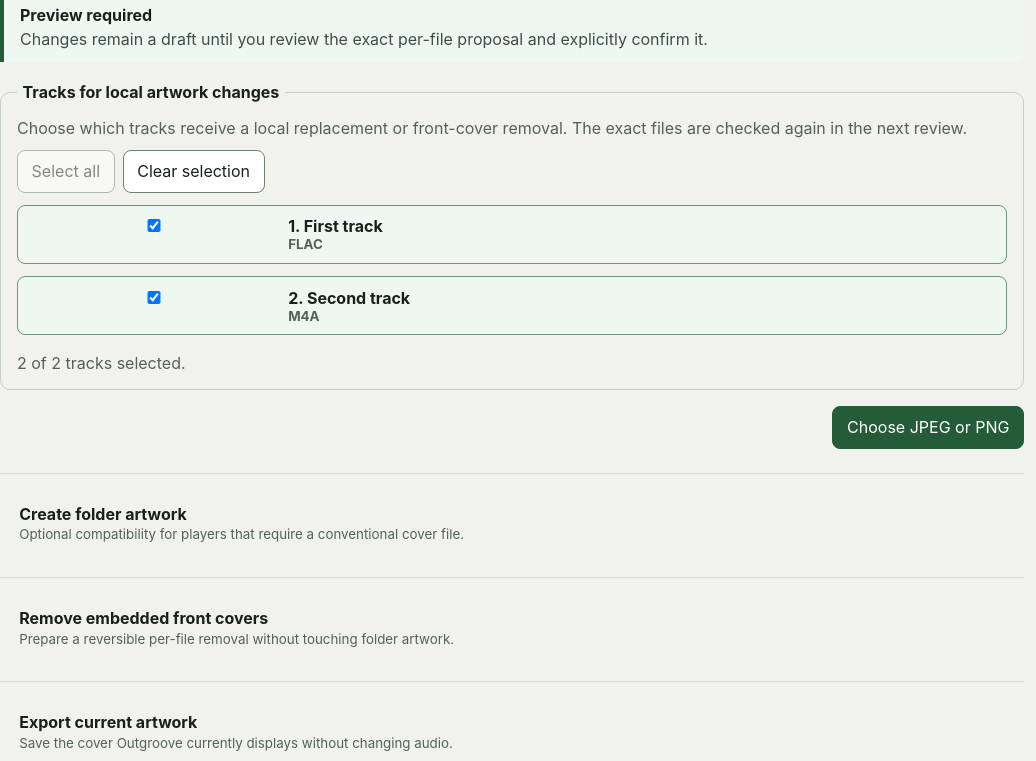
Test case: AlbumArtworkEditor › keeps exported artwork verification codes behind keyboard-accessible details
(page scrolled)
Click the text "Export current artwork". click: (108, 722)
box: [19, 712, 197, 732]
(page scrolled)
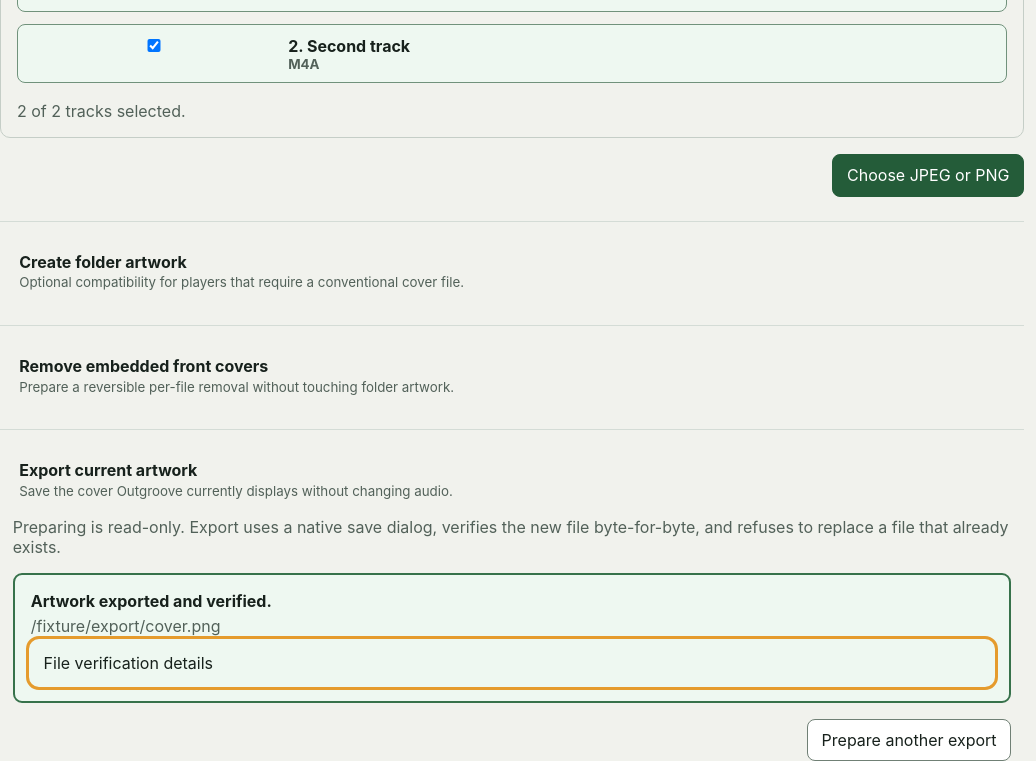
Check: the text "1234567890abcdef" is not shown
Check: the text "Artwork exported and verified." is shown, box [31, 591, 272, 611]
Click the heading "File verification details". click: (128, 663)
box: [44, 653, 213, 673]
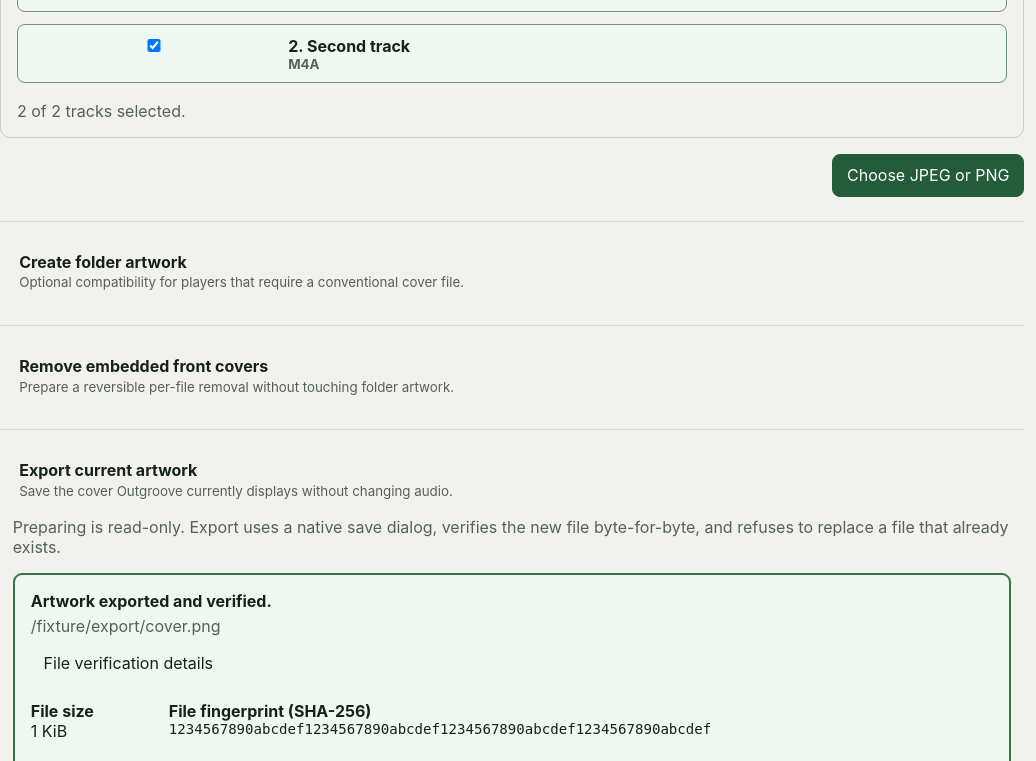
Check: the text "File fingerprint (SHA-256)" is shown, box [169, 701, 371, 721]
Check: the text "1234567890abcdef" is shown, box [169, 721, 711, 737]
